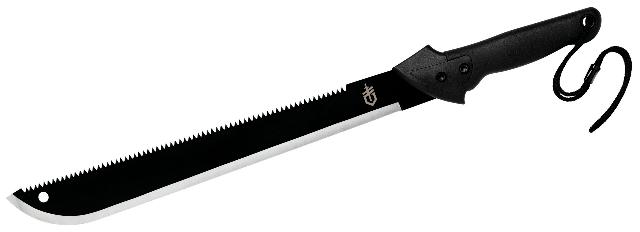long knife: (9, 15, 612, 224)
